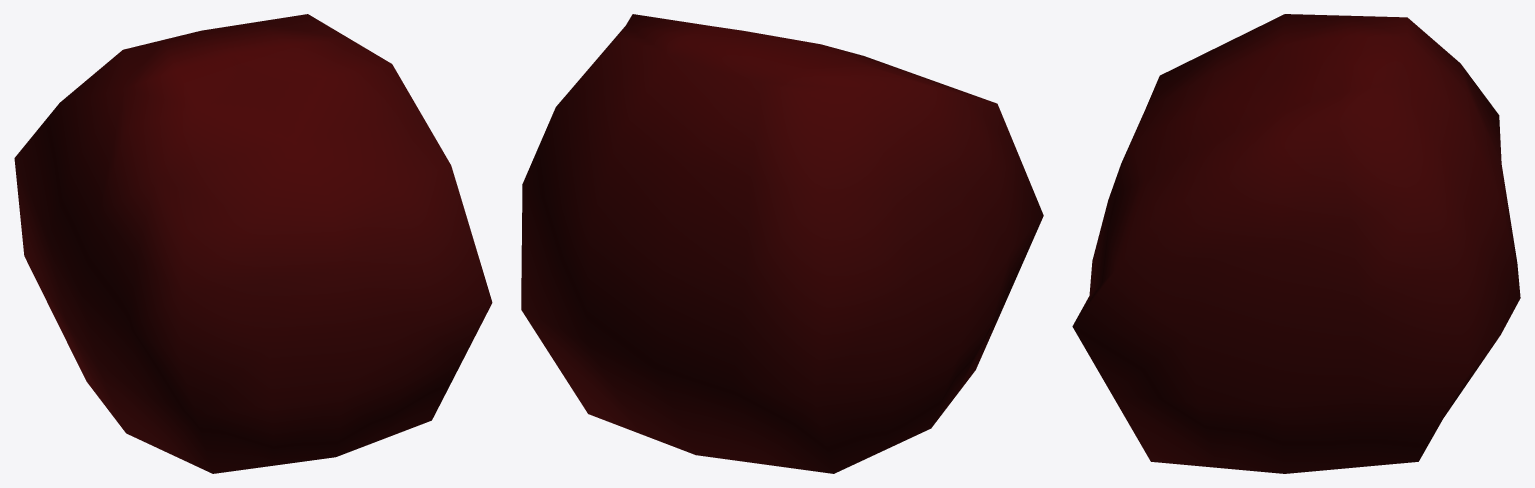
File: geology-pebbles-dirtchunk_v6.fbx
The picture shows the model from 3 angles, left to right: view 1: azimuth 30°, elevation 25°; view 2: azimuth 150°, elevation 25°; view 3: azimuth 270°, elevation 25°; orthographic projection. The views are drawn at different scales.
Parts seen in each view (by area): view 1: DirtChunk_v6; view 2: DirtChunk_v6; view 3: DirtChunk_v6.
Boxes of the visible parts, <box> form: DirtChunk_v6: <box>14,14,492,473</box>; DirtChunk_v6: <box>521,14,1043,473</box>; DirtChunk_v6: <box>1072,14,1520,473</box>.
Bounding box in the file's own units: 5.69 × 5.86 × 6.13.
